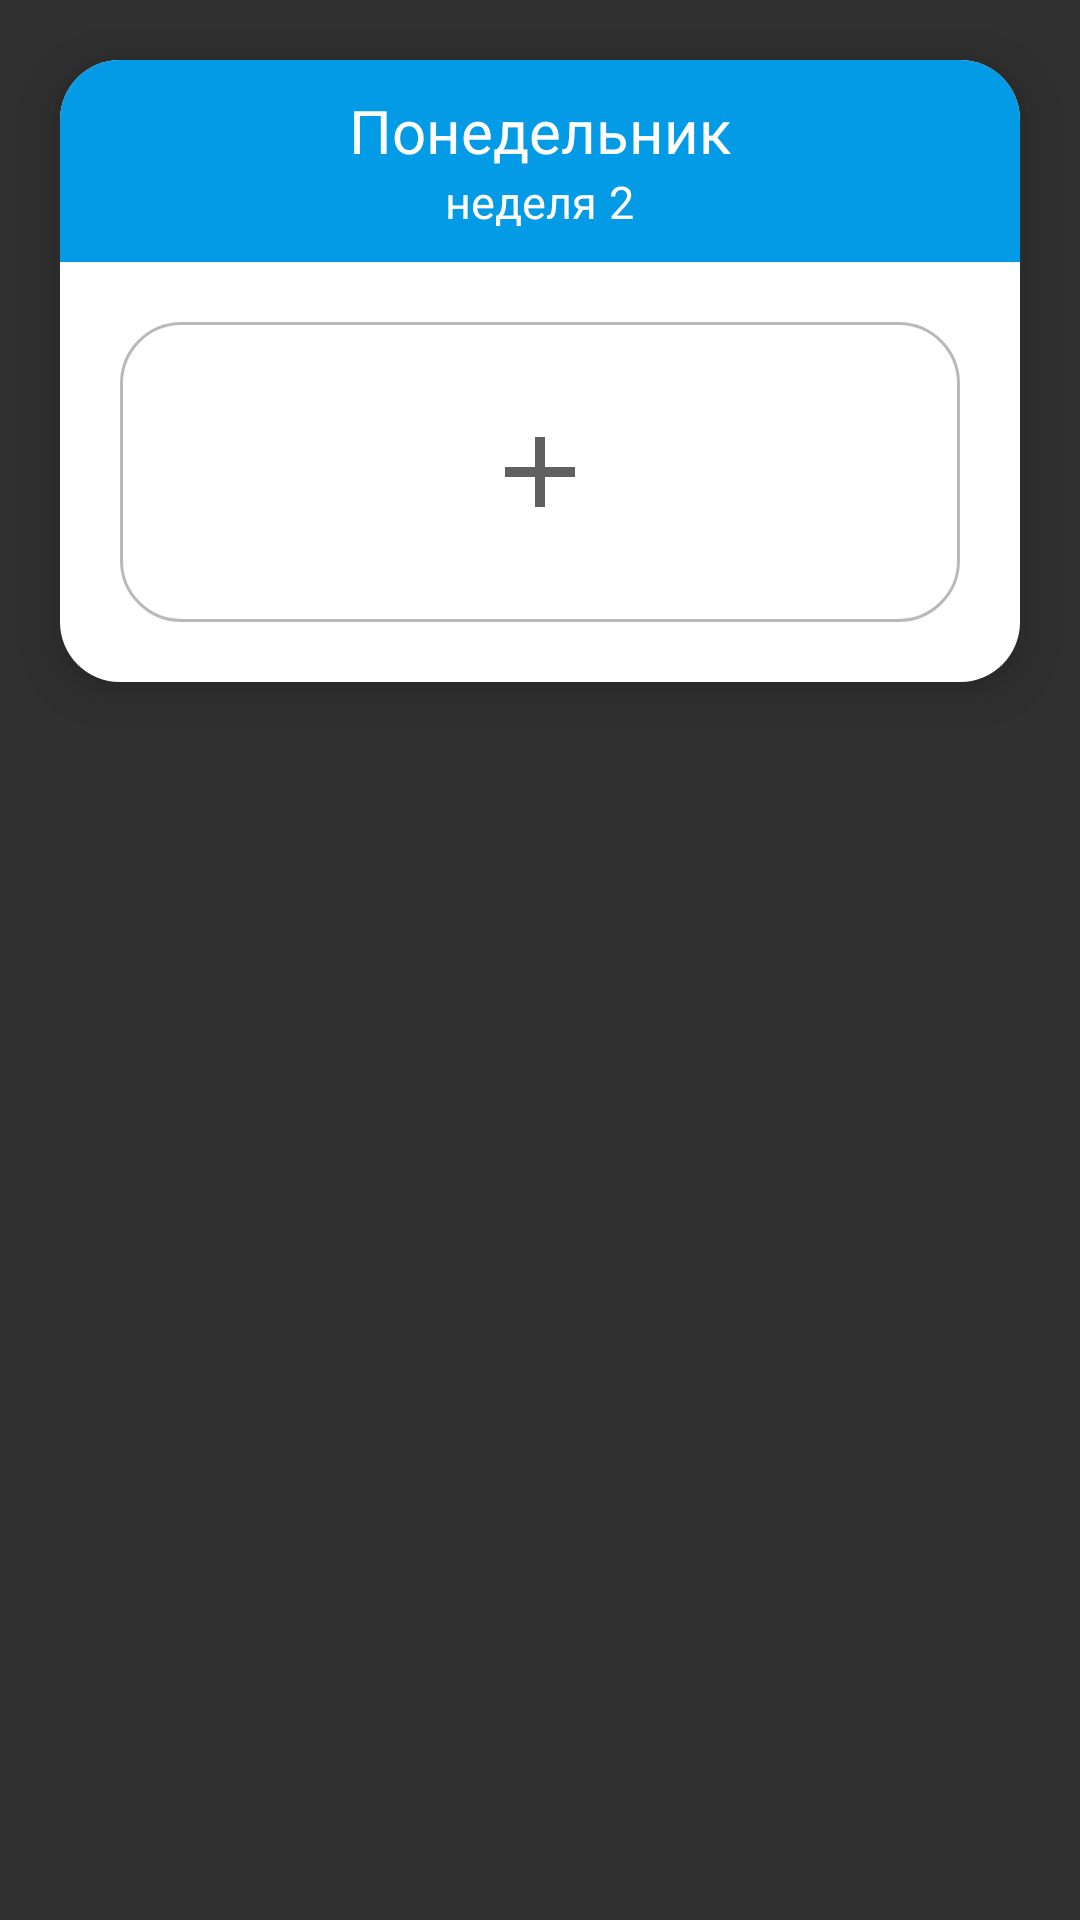

Icons on this 1080x1920 Android screen, each with the point to tap as [x,y]:
add: [540,472]
